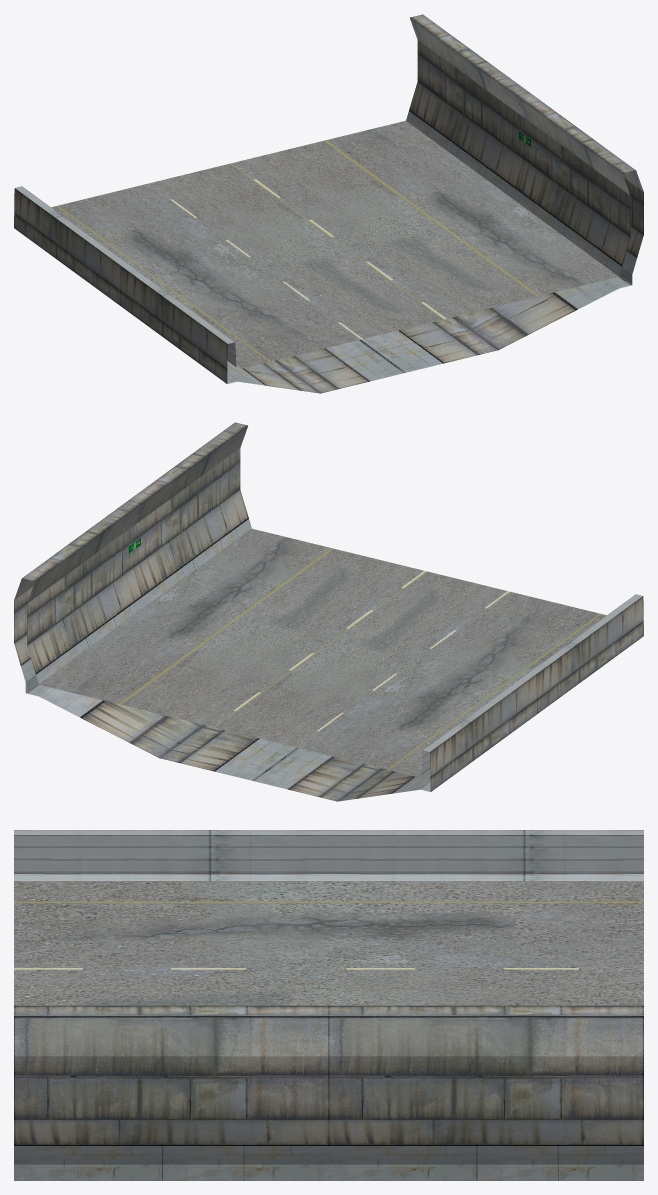
Rendered from Highway_Road_Part_07.fbx.
The picture shows the model from 3 angles, top to bottom: view 1: azimuth 30°, elevation 25°; view 2: azimuth 150°, elevation 25°; view 3: azimuth 270°, elevation 25°; orthographic projection. The views are drawn at different scales.
Parts seen in each view (by area): view 1: Highway_Road_Part_07; view 2: Highway_Road_Part_07; view 3: Highway_Road_Part_07.
Boxes of the visible parts, left/top/right/bottom form: Highway_Road_Part_07: left=14, top=14, right=643, bottom=393; Highway_Road_Part_07: left=14, top=422, right=643, bottom=801; Highway_Road_Part_07: left=14, top=830, right=643, bottom=1180.
Size of the model in its own units: 1492 by 500 by 1322.
